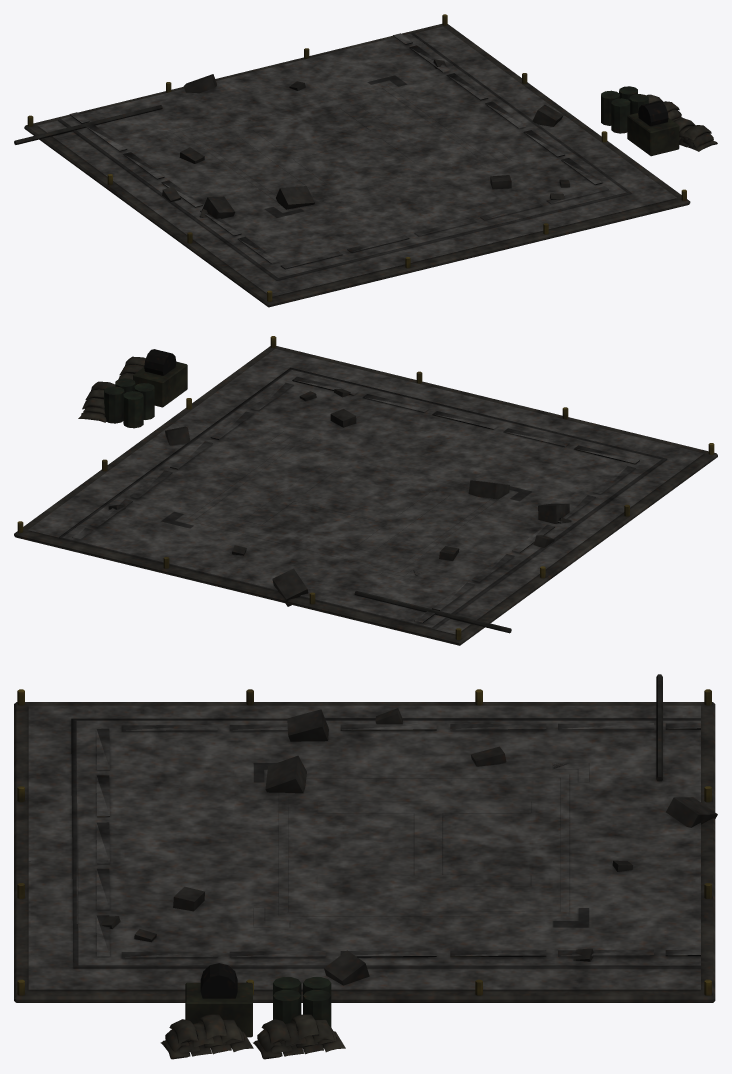
File: hpad-wreck.glb
3 views of the same model, one above another, from view 1: azimuth 30°, elevation 25°; view 2: azimuth 150°, elevation 25°; view 3: azimuth 270°, elevation 25° (orthographic). The views are drawn at different scales.
Visible parts, largest first — view 1: hull; view 2: hull; view 3: hull.
Boxes of the visible parts, <box> form: hull: <box>14,14,717,307</box>; hull: <box>14,336,717,645</box>; hull: <box>14,674,717,1059</box>.
Bounding box in the file's own units: 18.19 × 1.46 × 14.51.
1 material, 1 textured.
